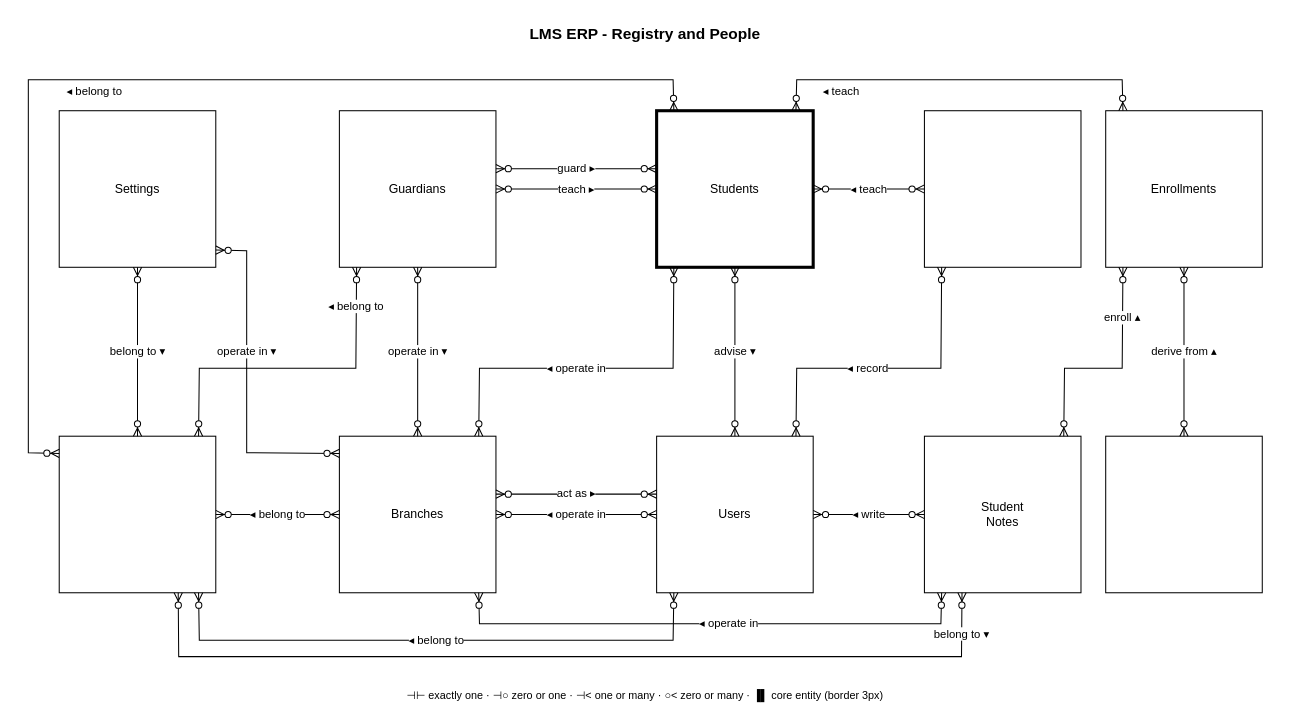
The diagram is 1290 pixels wide and 723 high, and some of its shapes have lost their labels. Each missing label, with the box of its shape:
Balance Transfers: (1105, 435, 1262, 593)
Centers: (58, 435, 216, 593)
Qualifications: (923, 110, 1081, 267)
